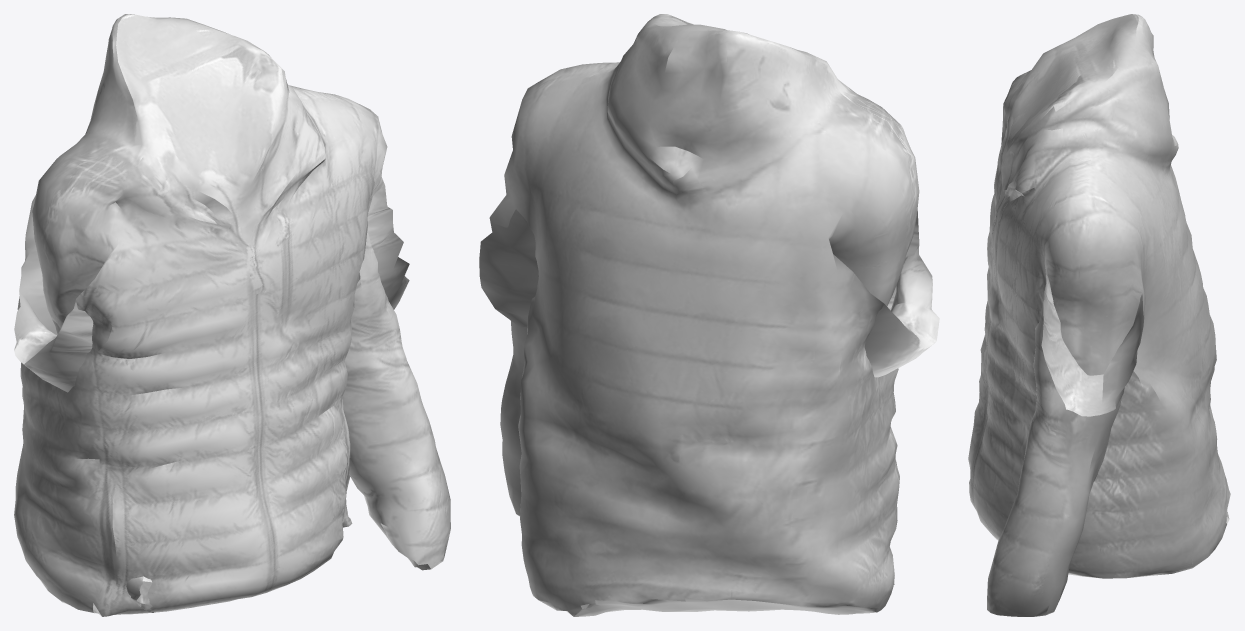
The model's file is puffer-03.glb.
3 renders of one model, left to right at view 1: azimuth 30°, elevation 25°; view 2: azimuth 150°, elevation 25°; view 3: azimuth 270°, elevation 25°, orthographic. The views are drawn at different scales.
Parts seen in each view (by area): view 1: puffer-03; view 2: puffer-03; view 3: puffer-03.
Part boxes in pixels (<box>): puffer-03: <box>14,14,450,616</box>; puffer-03: <box>479,14,939,616</box>; puffer-03: <box>968,14,1230,616</box>.
Size of the model in its own units: 2.3 by 2.95 by 1.41.
1 material, 1 textured.
